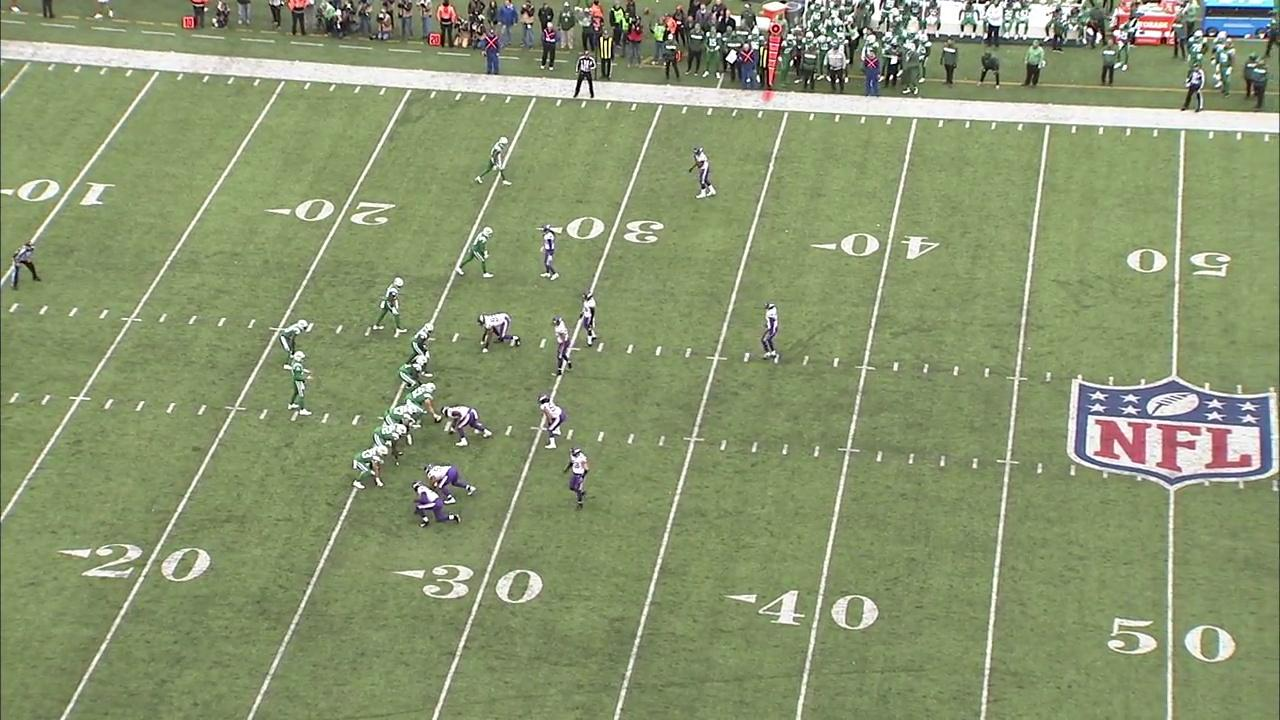defense: (408, 479, 462, 530), (440, 403, 493, 450), (421, 463, 477, 505), (561, 445, 592, 513), (475, 310, 522, 354), (536, 391, 567, 452), (686, 145, 718, 201), (550, 314, 574, 380), (576, 287, 600, 350), (759, 300, 781, 362), (539, 222, 561, 283)
oline: (379, 400, 420, 448), (402, 380, 444, 426), (406, 321, 437, 379), (371, 421, 408, 467), (396, 352, 431, 391)
qb: (285, 349, 314, 417)
ref: (8, 237, 44, 293), (1179, 59, 1210, 116), (571, 49, 600, 103)
skill: (371, 274, 412, 335), (454, 224, 498, 280), (474, 133, 513, 190), (351, 442, 390, 493), (277, 319, 311, 372)
